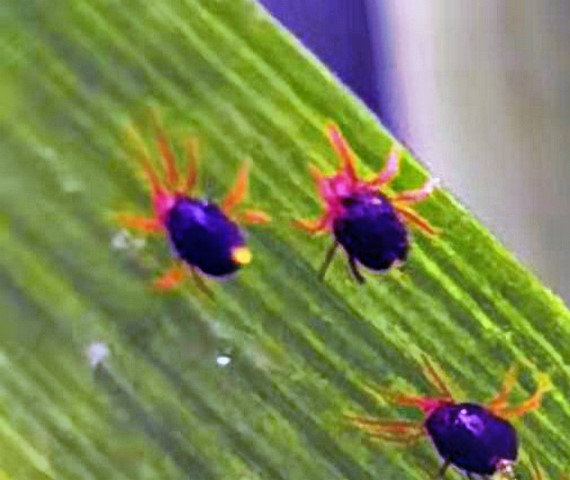Wheat Red Spider: (274, 111, 448, 291)
